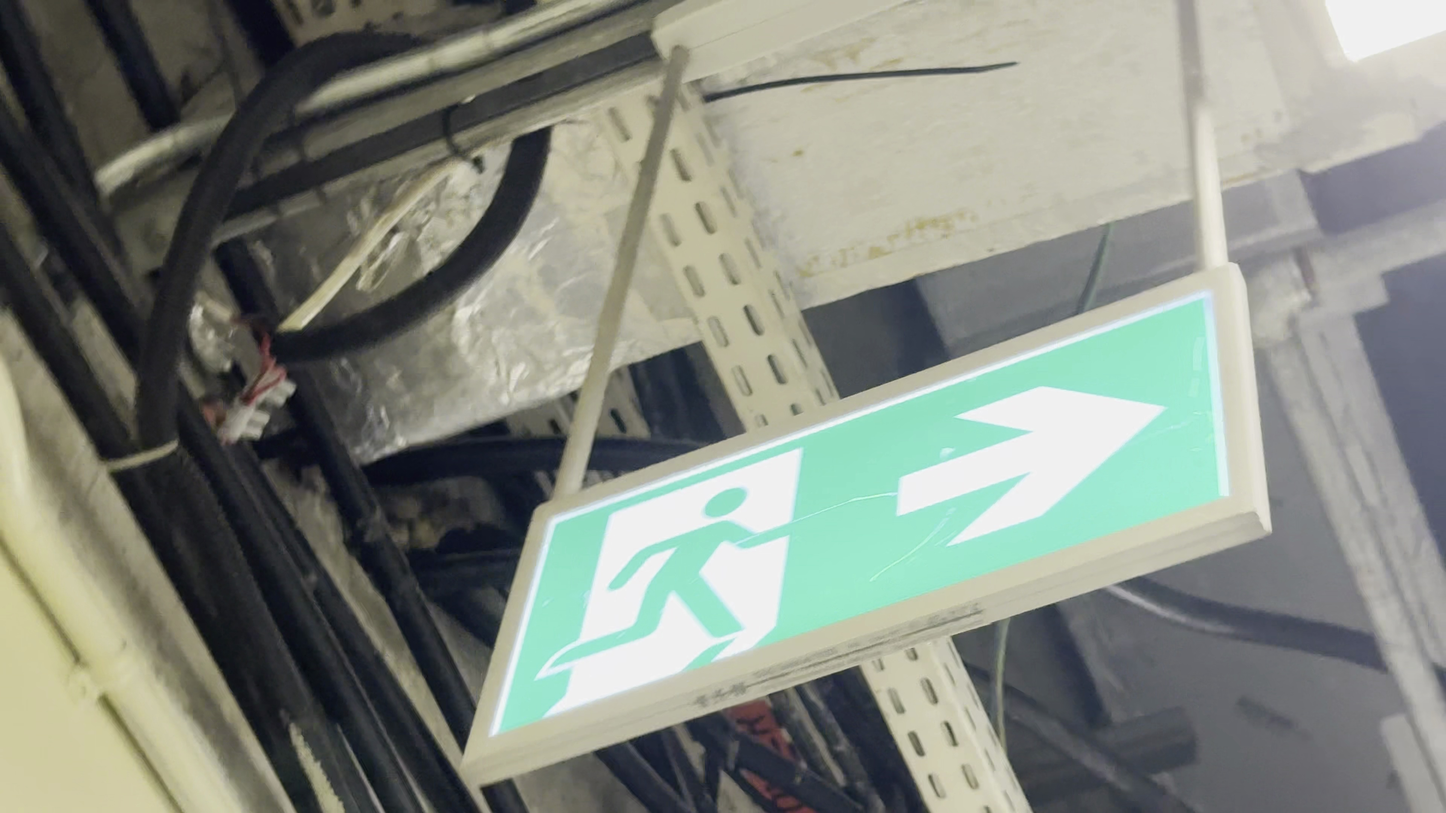emergency_exit: (457, 260, 1274, 787)
